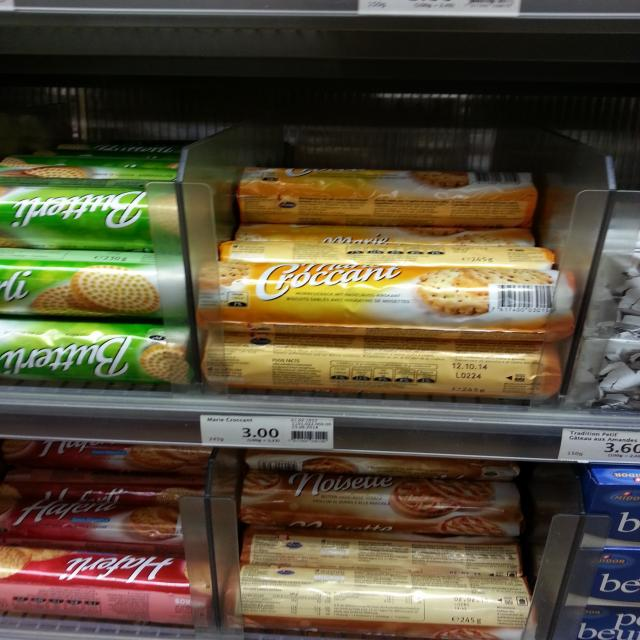Biscuits: (197, 261, 582, 343), (193, 331, 564, 401), (216, 566, 541, 640), (229, 164, 551, 228), (237, 473, 526, 542), (0, 548, 208, 629), (0, 247, 190, 323), (0, 322, 195, 391), (0, 183, 191, 249), (0, 496, 210, 556)
